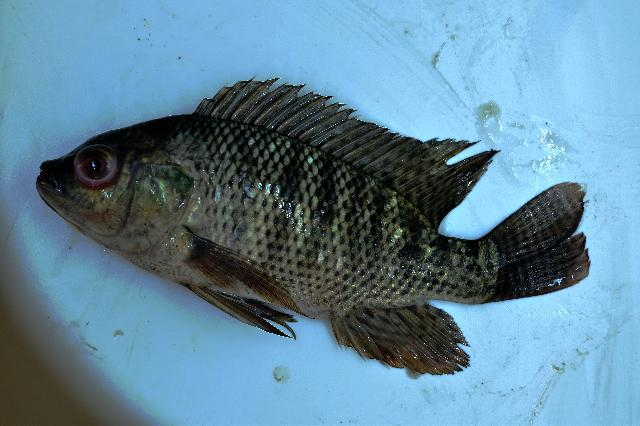Columnaris Disease: (36, 79, 589, 375)
